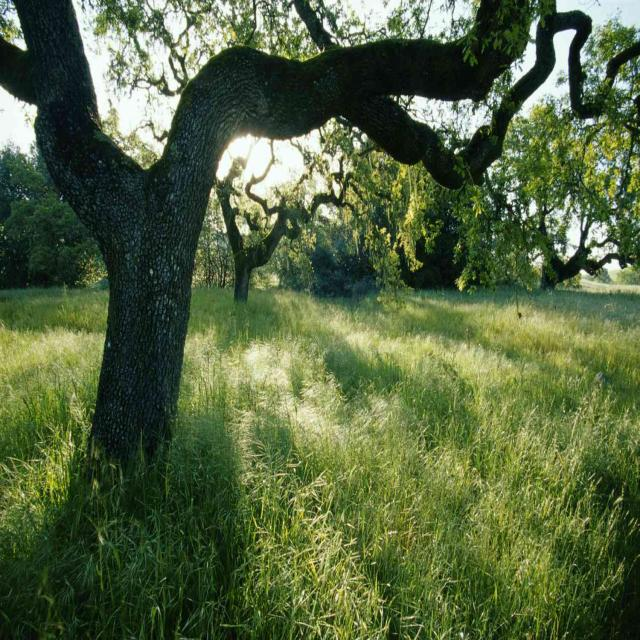Quercus kelloggii: (0, 4, 535, 464)
